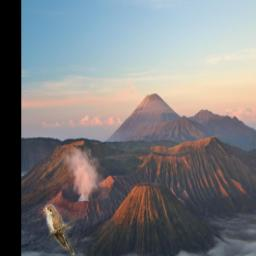Cuckoo: (43, 205, 76, 256)
